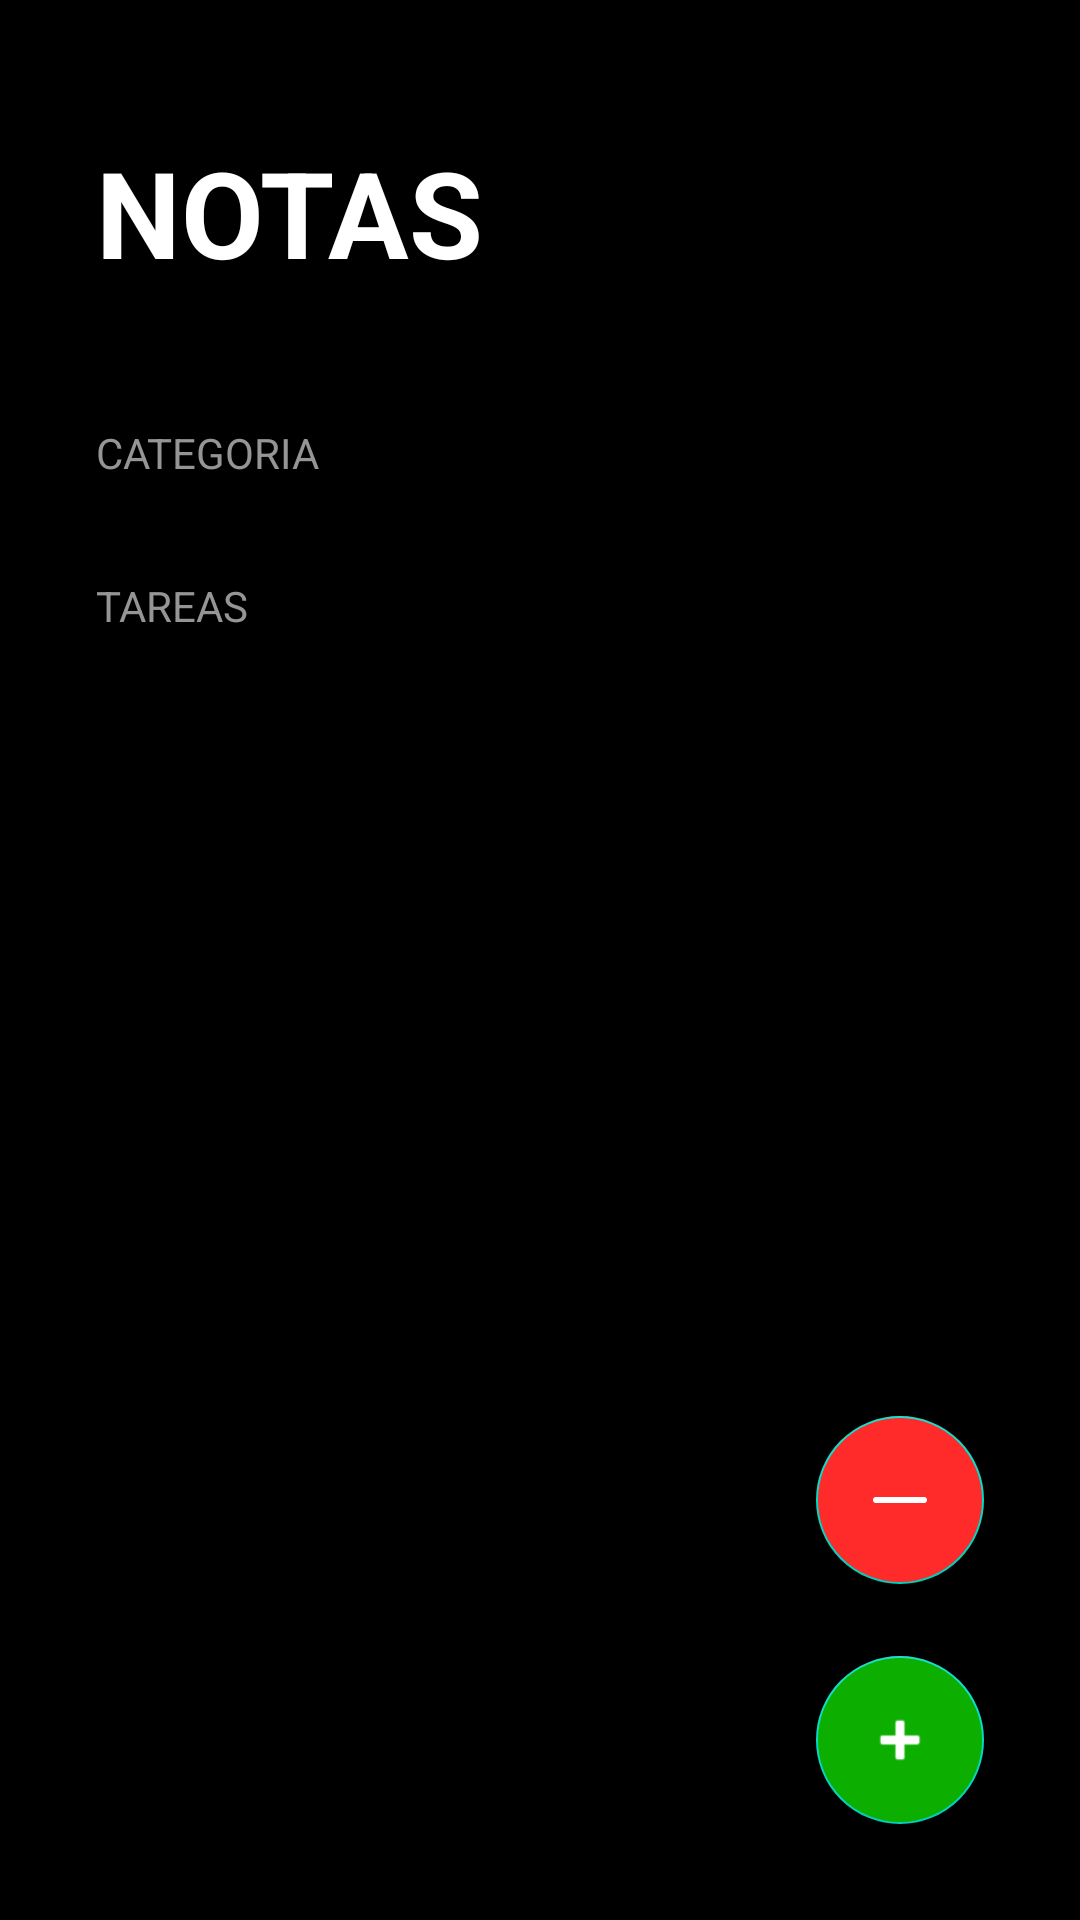

Screen size 1080px x 1920px. Icon name, then its box in pixels as (x1, y1, x2, y2):
add: (816, 1656, 984, 1824)
menos: (816, 1416, 984, 1584)
